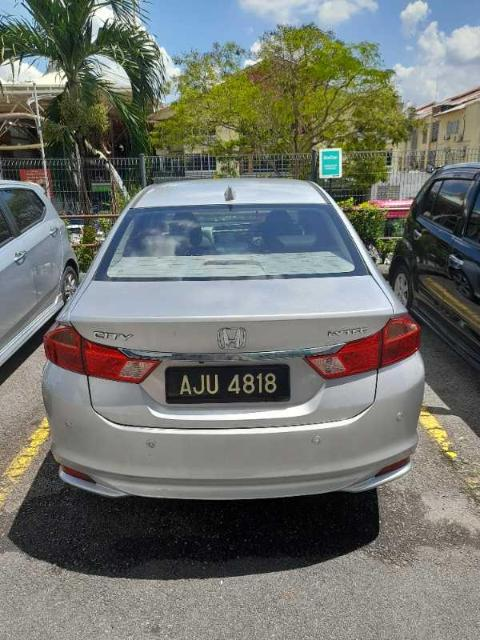License_Plate: (164, 363, 292, 404)
car: (42, 176, 427, 502)
